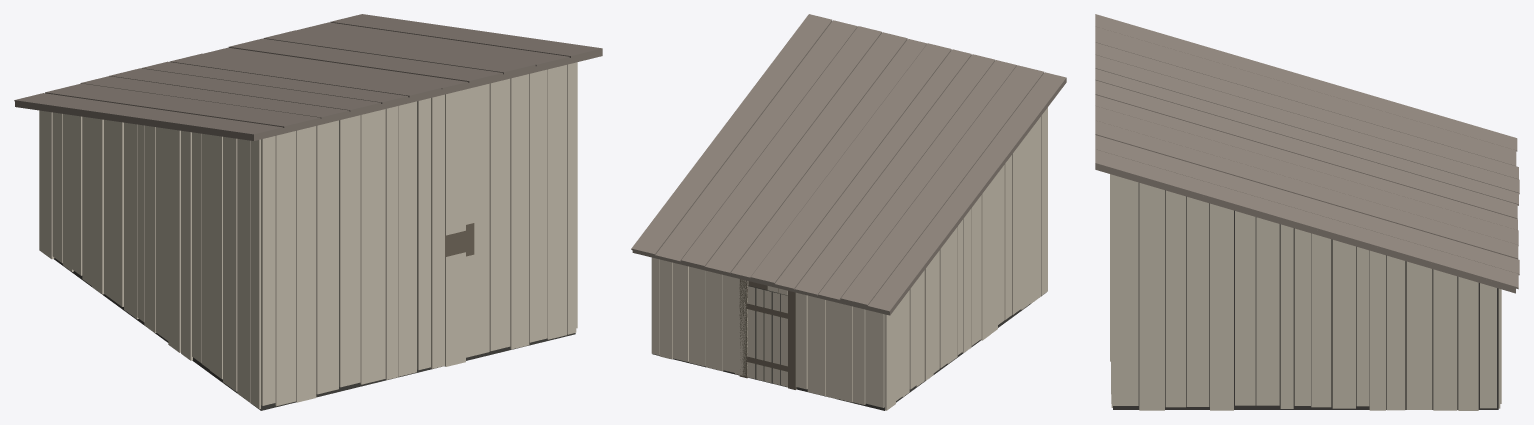
Rendered from recon_1835_blk_randolph_dearborn_d2_05__inferred_1835.glb.
3 renders of one model, left to right at view 1: azimuth 30°, elevation 25°; view 2: azimuth 150°, elevation 25°; view 3: azimuth 270°, elevation 25°, orthographic. The views are drawn at different scales.
Parts seen in each view (by area): view 1: recon_1835_blk_randolph_dearborn_d2_05__inferred_1835; view 2: recon_1835_blk_randolph_dearborn_d2_05__inferred_1835; view 3: recon_1835_blk_randolph_dearborn_d2_05__inferred_1835.
Part boxes in pixels (x1,y1,x2,y2): recon_1835_blk_randolph_dearborn_d2_05__inferred_1835: (14, 14, 602, 410); recon_1835_blk_randolph_dearborn_d2_05__inferred_1835: (631, 14, 1066, 410); recon_1835_blk_randolph_dearborn_d2_05__inferred_1835: (1095, 14, 1519, 410).
Size of the model in its own units: 5.45 by 4.31 by 6.51.
